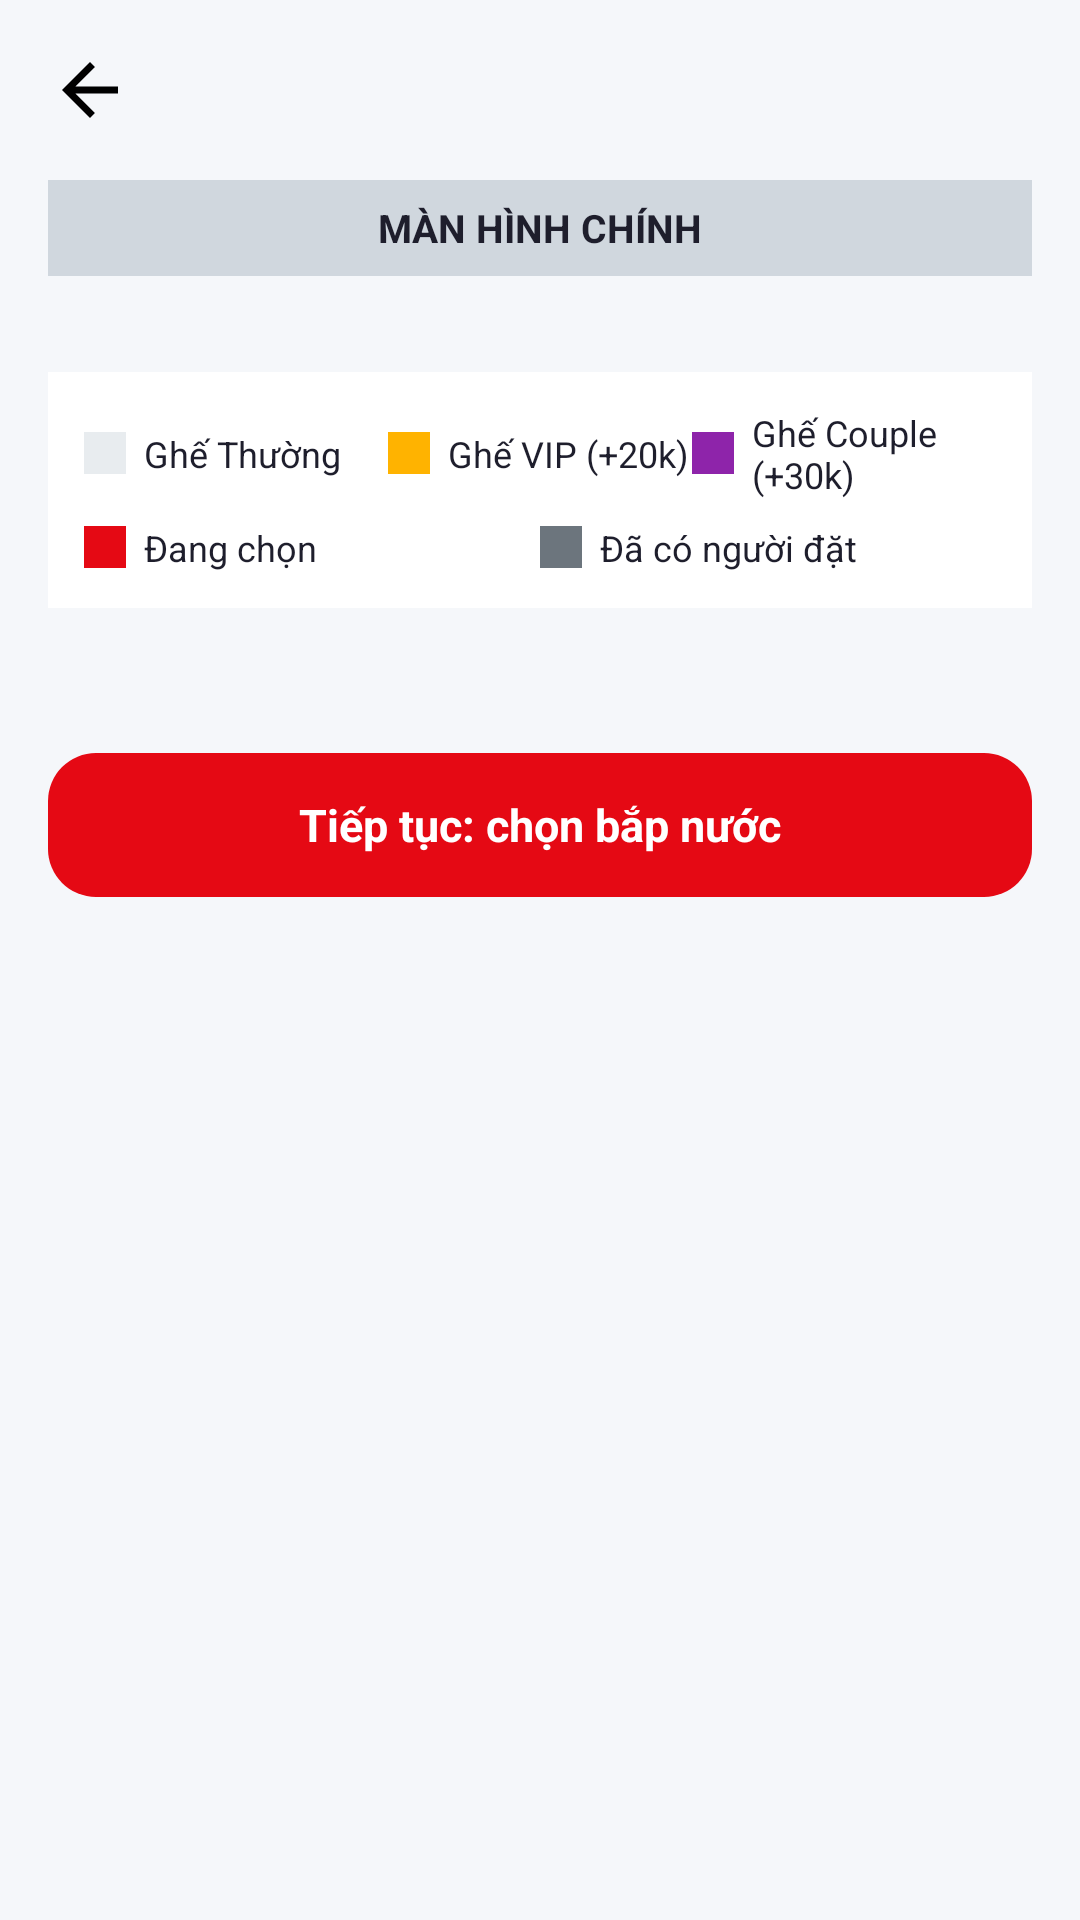

Named icons in this screenshot (1080 x 1920) and their centers, [x,y]:
arrow back: [90,90]
